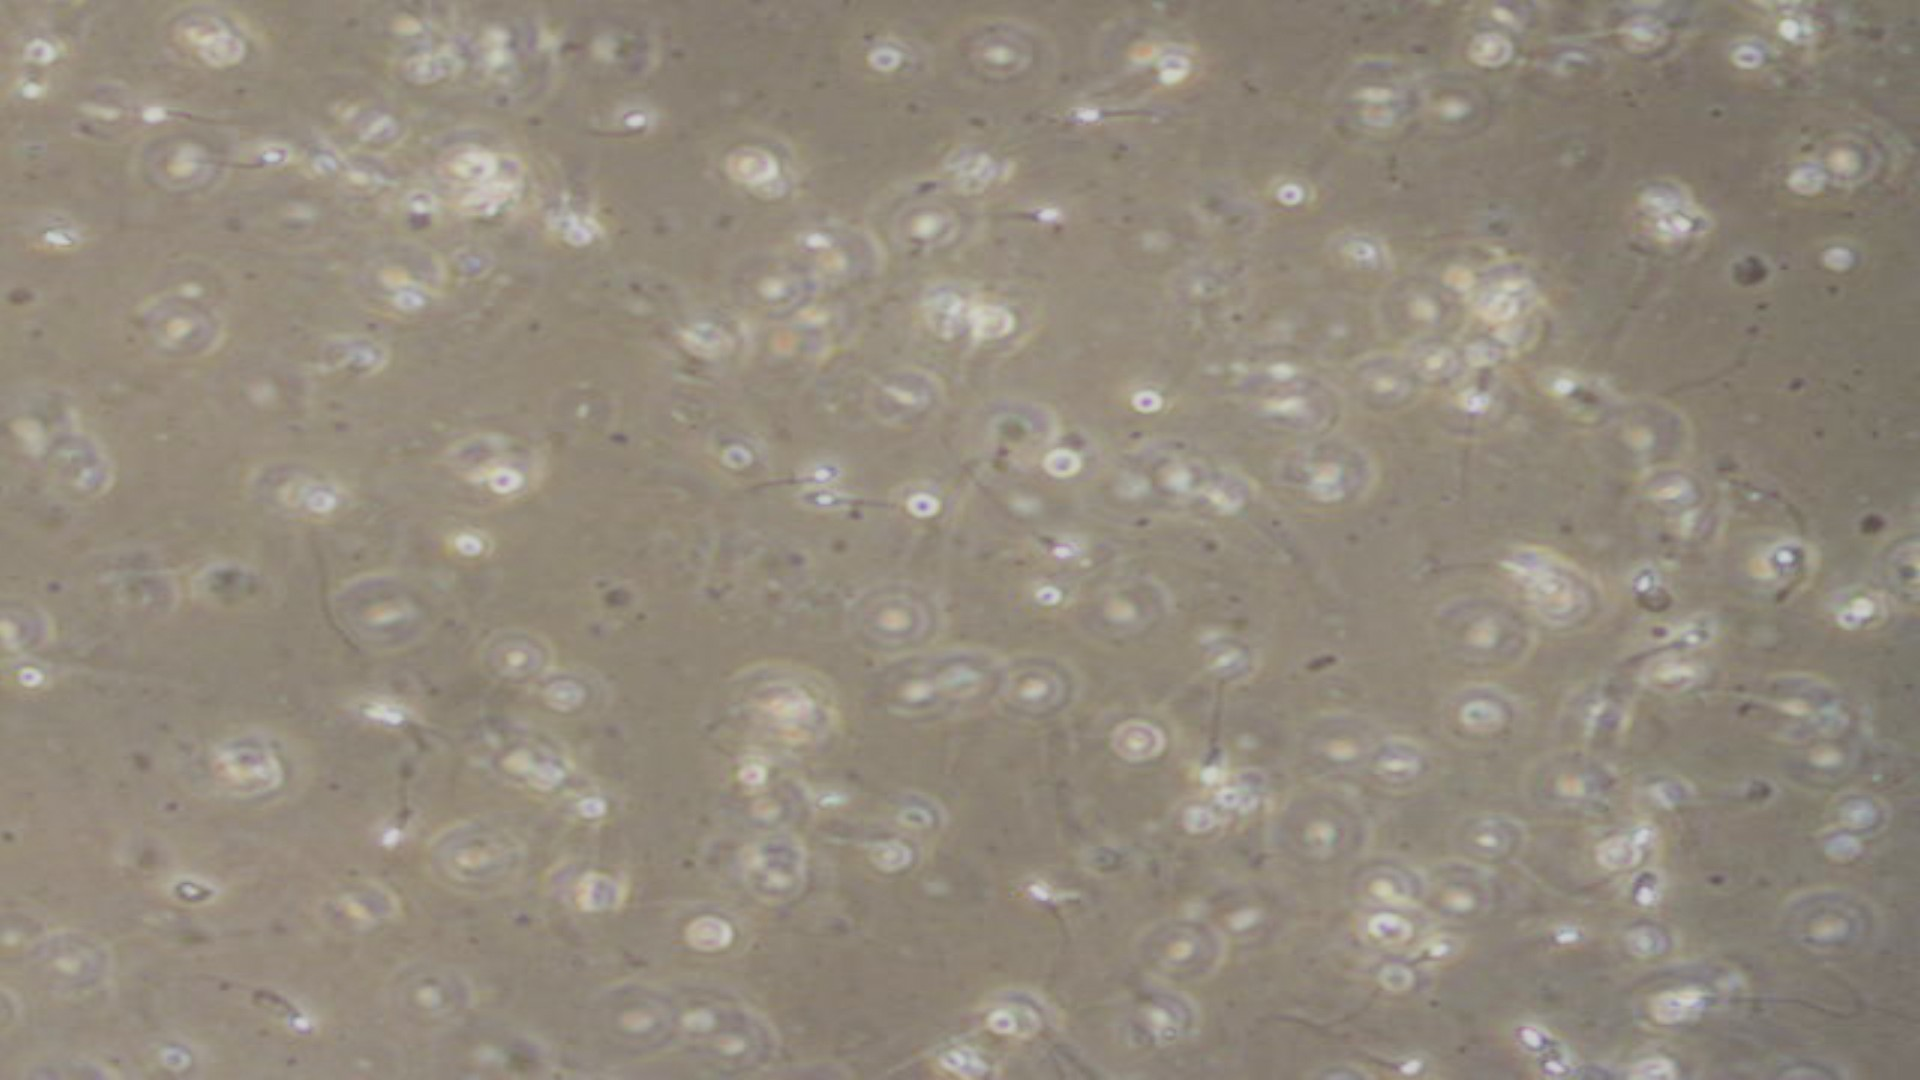sperm: (997, 876, 1100, 989), (986, 484, 1075, 564), (1184, 695, 1246, 803), (715, 456, 847, 502), (1745, 539, 1836, 604), (571, 96, 654, 166), (1622, 556, 1702, 625), (364, 785, 429, 868), (1065, 95, 1178, 138), (1357, 1033, 1452, 1080), (807, 488, 911, 529), (128, 100, 252, 128), (992, 198, 1075, 235), (196, 148, 303, 175)
